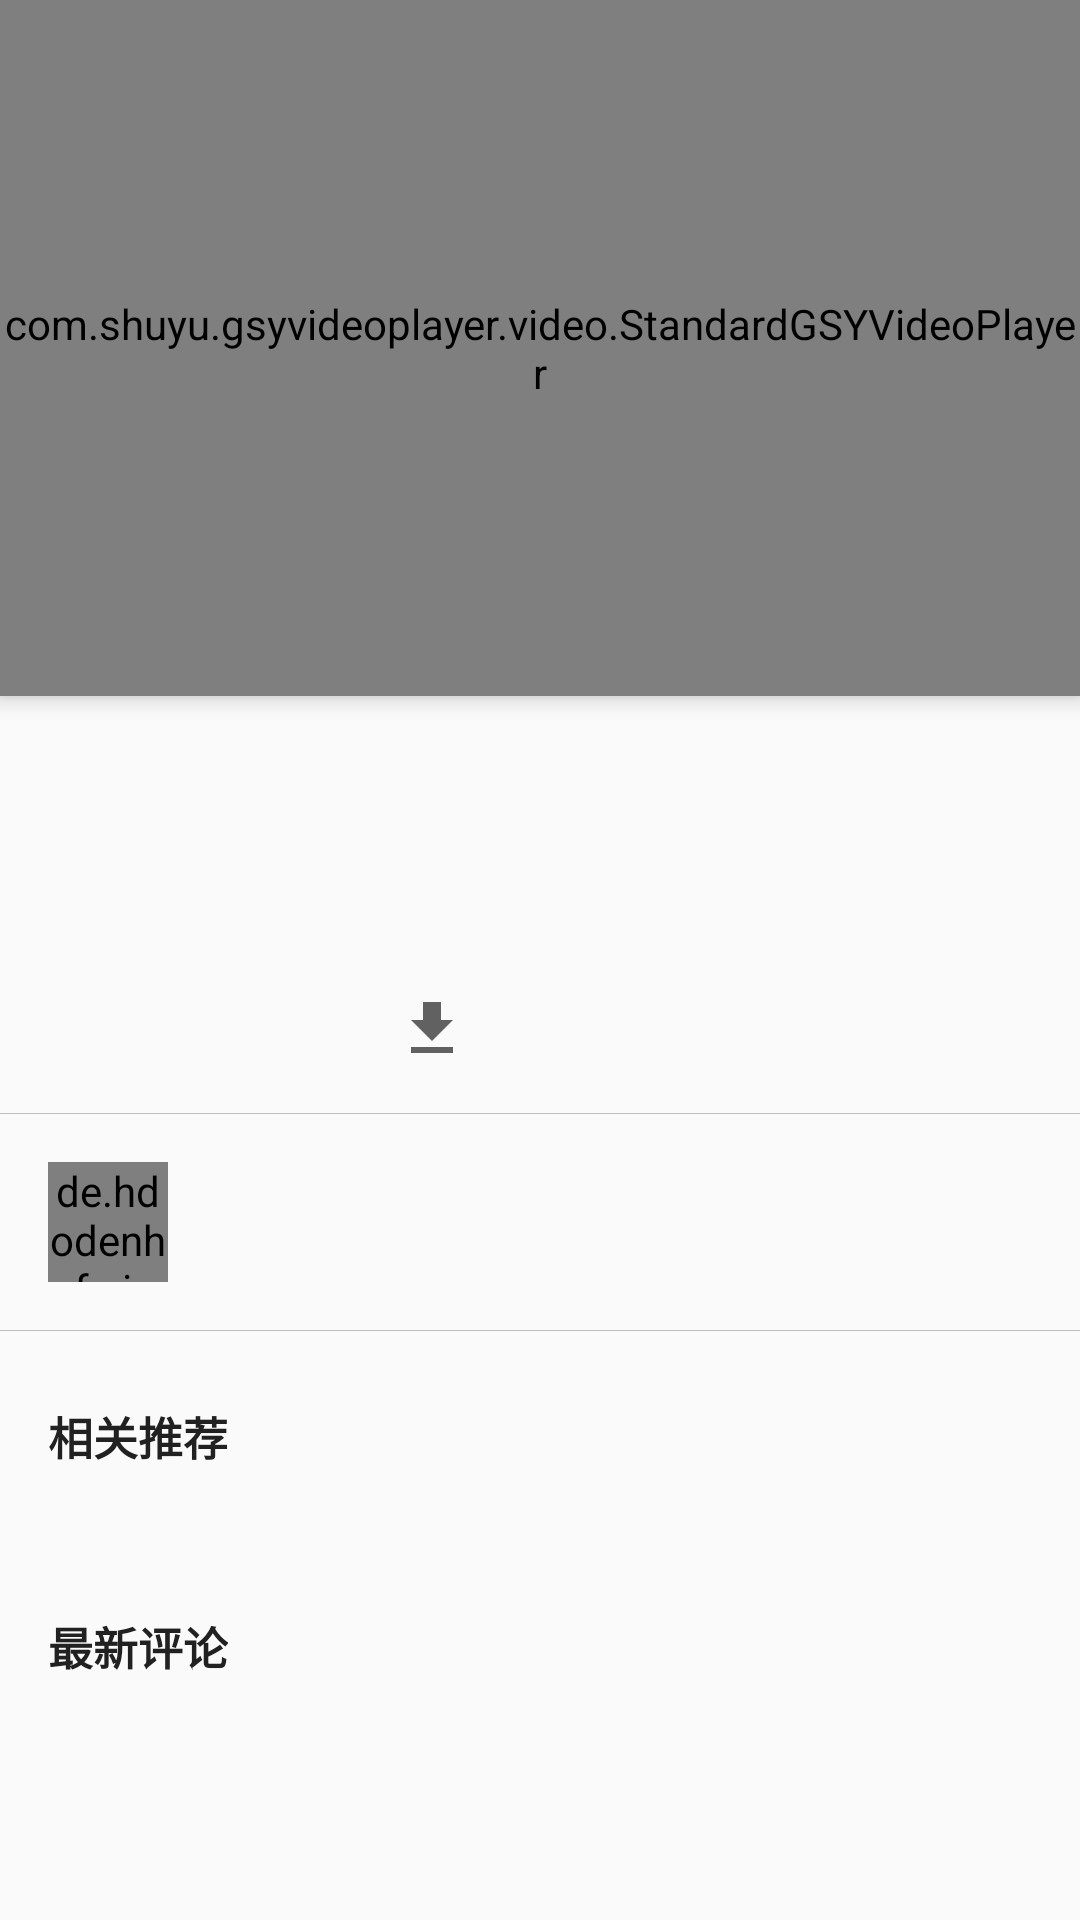

Named icons in this screenshot (1080px×1920px) and their bounding boxes, bbox=(x1, y1, x2, y2):
file download: bbox=(411, 1002, 453, 1053)
